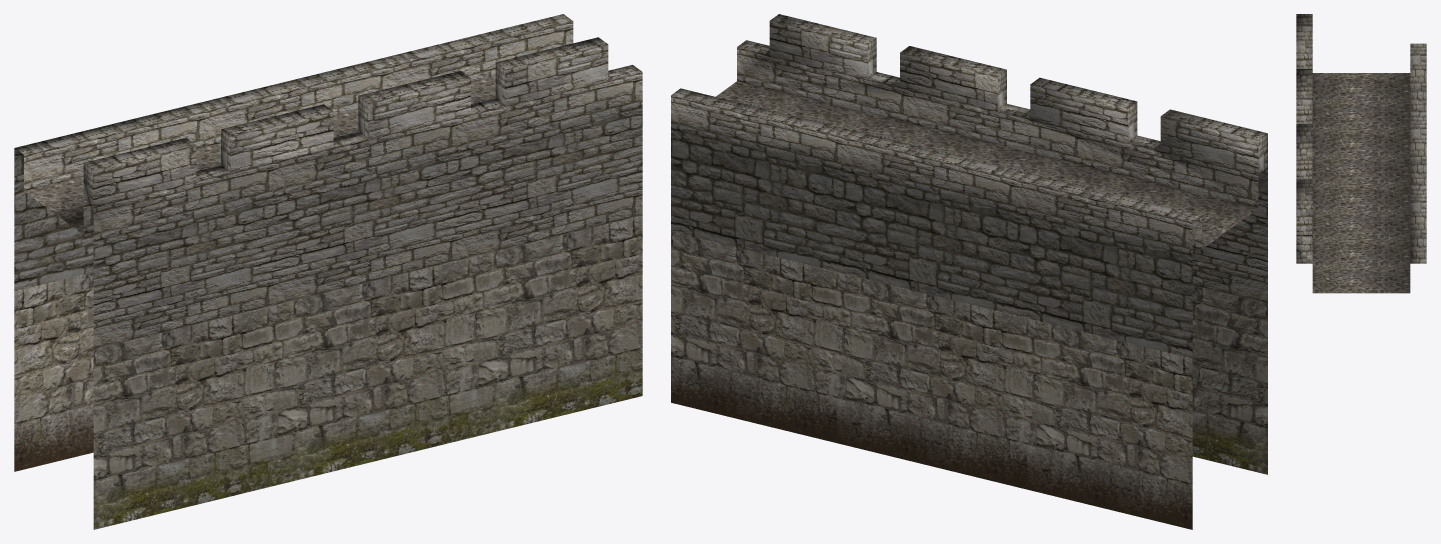
File: poorlords_wall.FBX
The picture shows the model from 3 angles, left to right: view 1: azimuth 30°, elevation 25°; view 2: azimuth 150°, elevation 25°; view 3: azimuth 270°, elevation 25°; orthographic projection. The views are drawn at different scales.
Parts seen in each view (by area): view 1: Poorlords_wall_; view 2: Poorlords_wall_; view 3: Poorlords_wall_.
Boxes of the visible parts, x1,y1,x2,y2 form: Poorlords_wall_: [14, 14, 642, 529]; Poorlords_wall_: [671, 14, 1267, 529]; Poorlords_wall_: [1296, 14, 1426, 293].
Size of the model in its own units: 1024 by 256 by 641.
